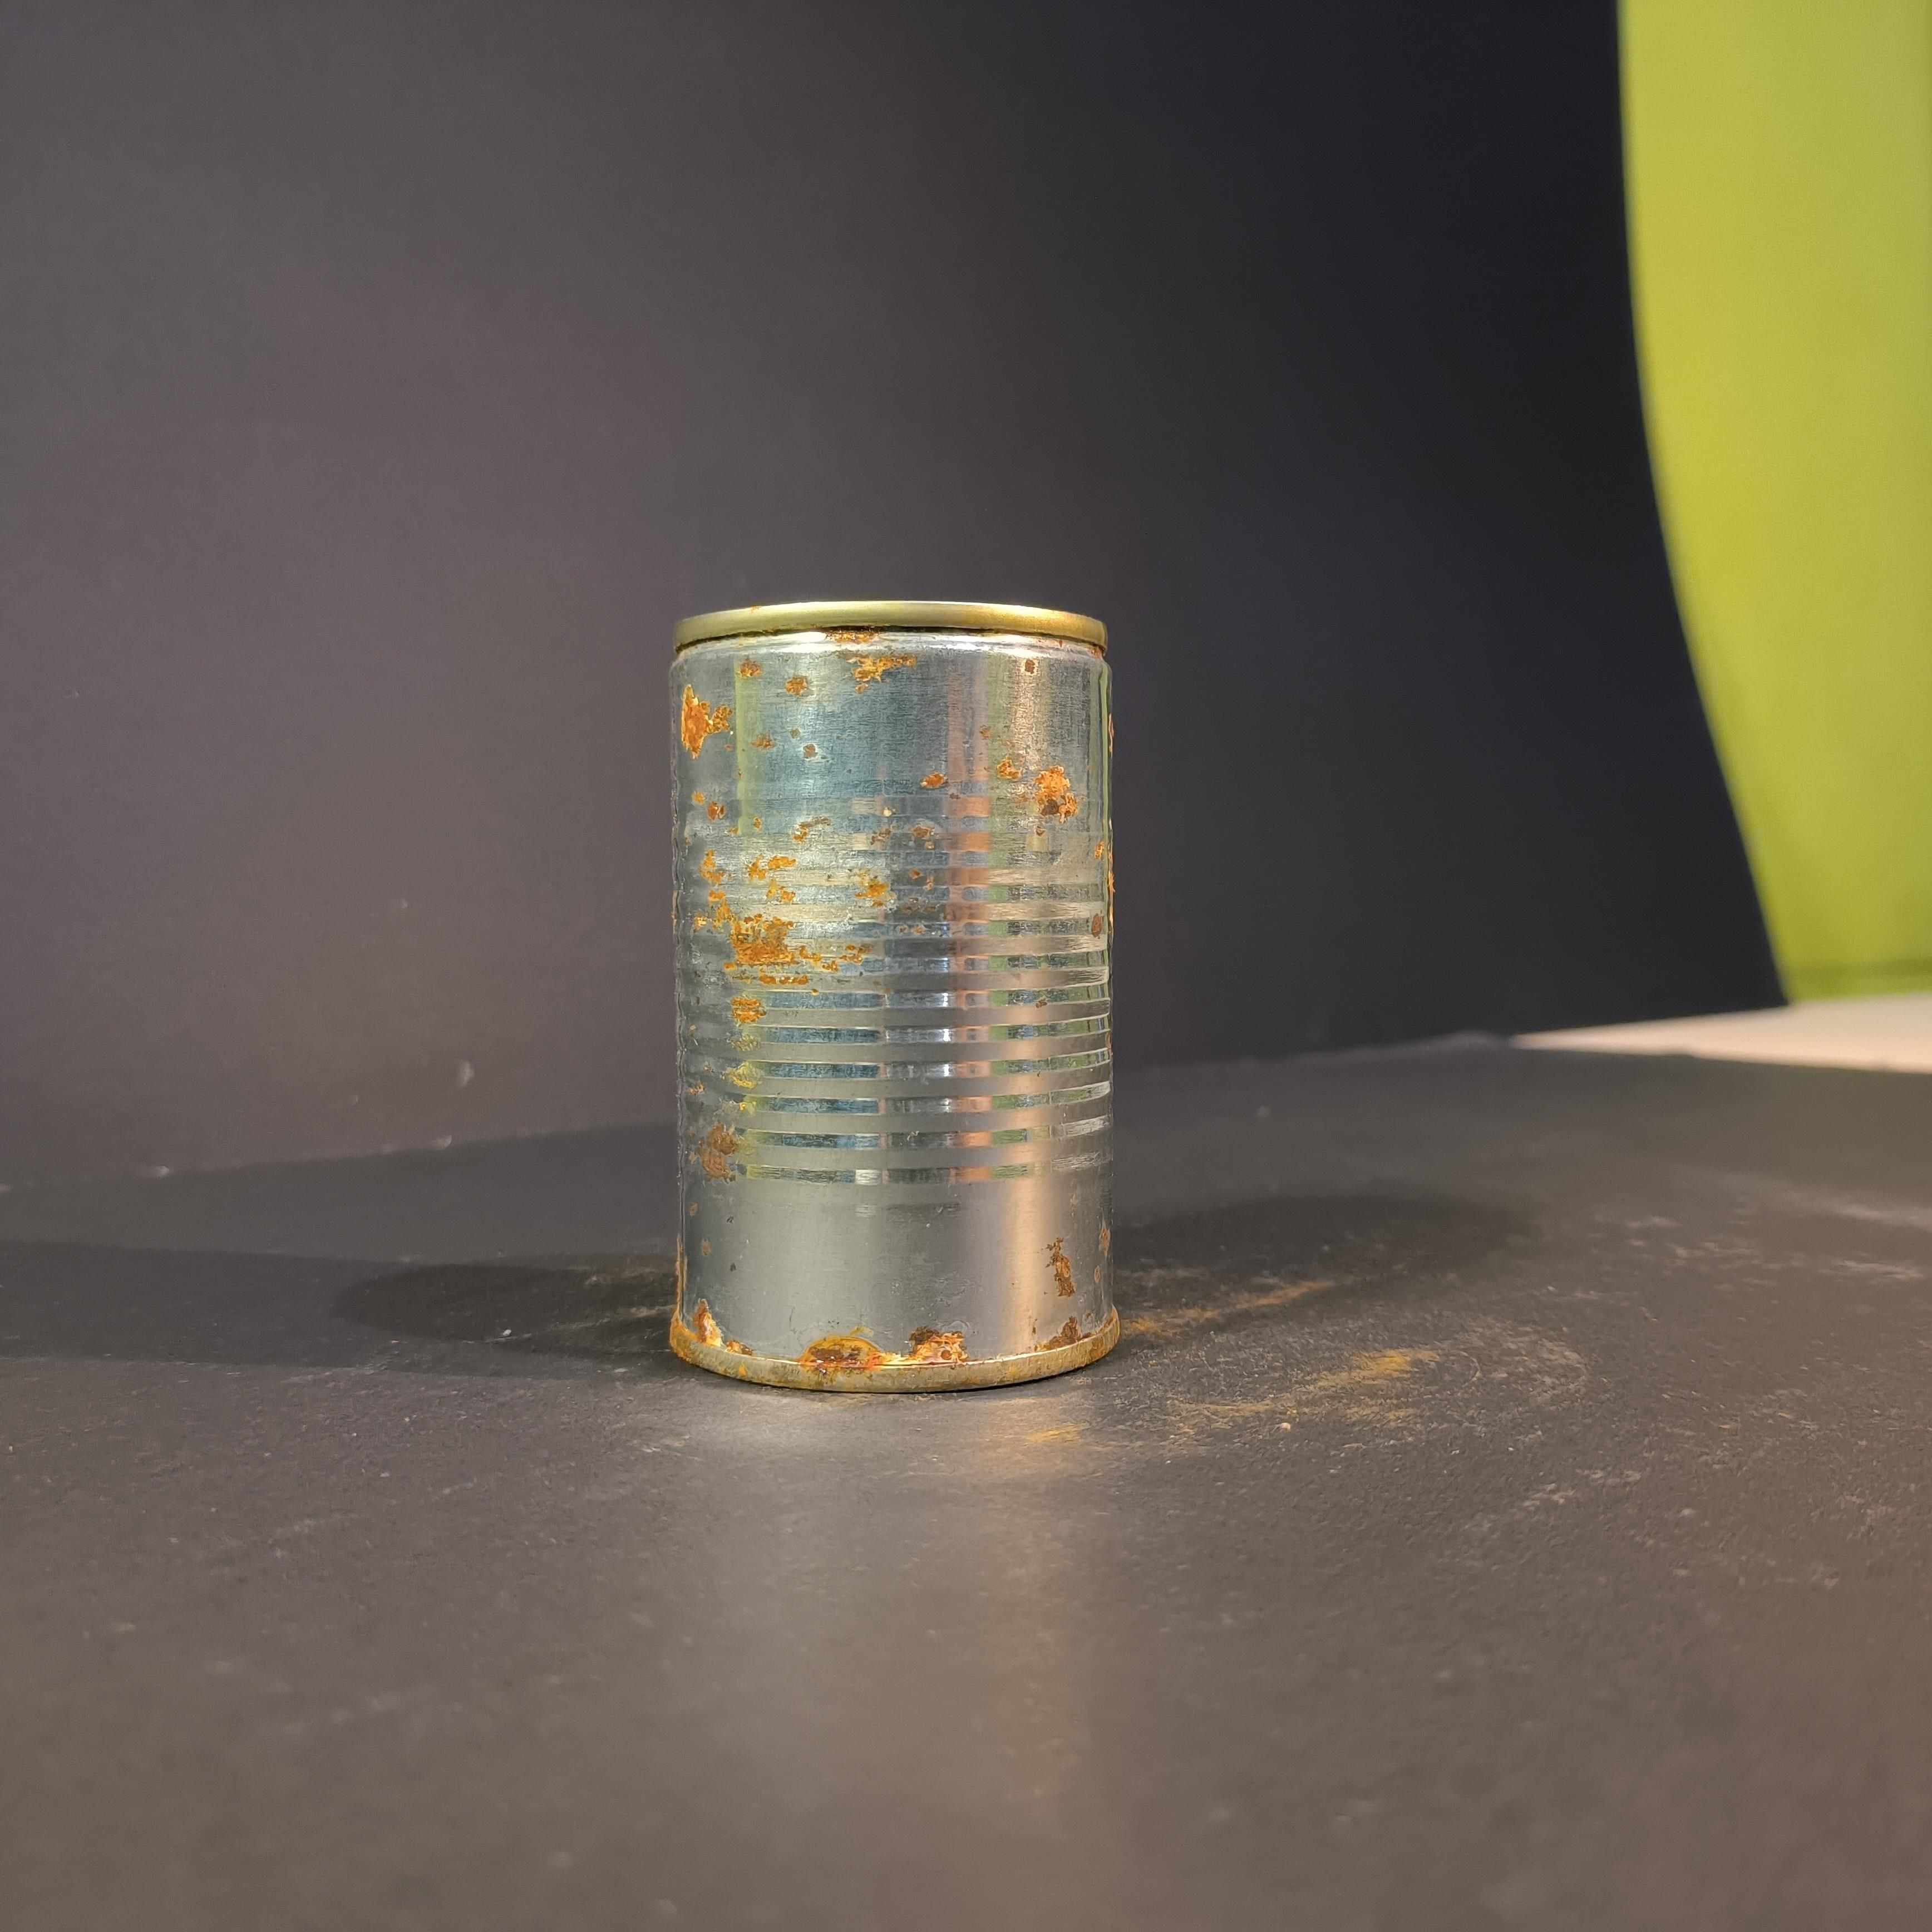Rusted: (635, 550, 1138, 1405)
